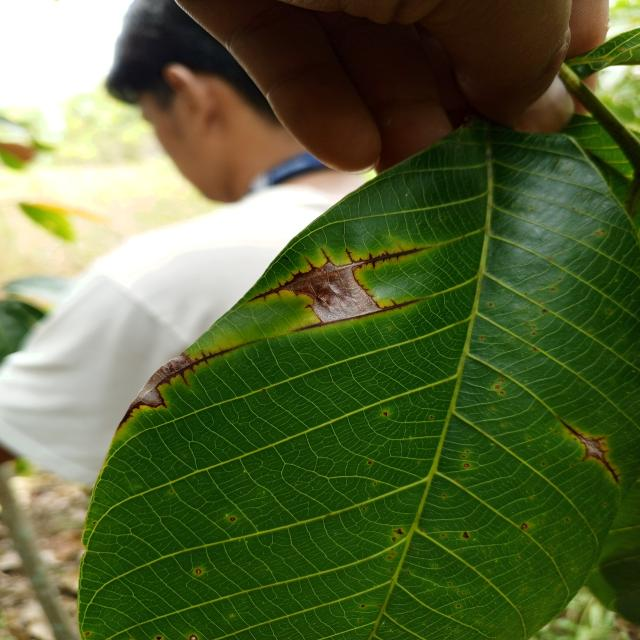Colletotrichum: (189, 634, 198, 640), (195, 568, 202, 574), (230, 516, 236, 522), (463, 463, 469, 468), (392, 537, 396, 541)
Corynespora: (118, 341, 252, 429), (245, 245, 430, 304), (291, 298, 422, 332), (559, 418, 621, 482)
